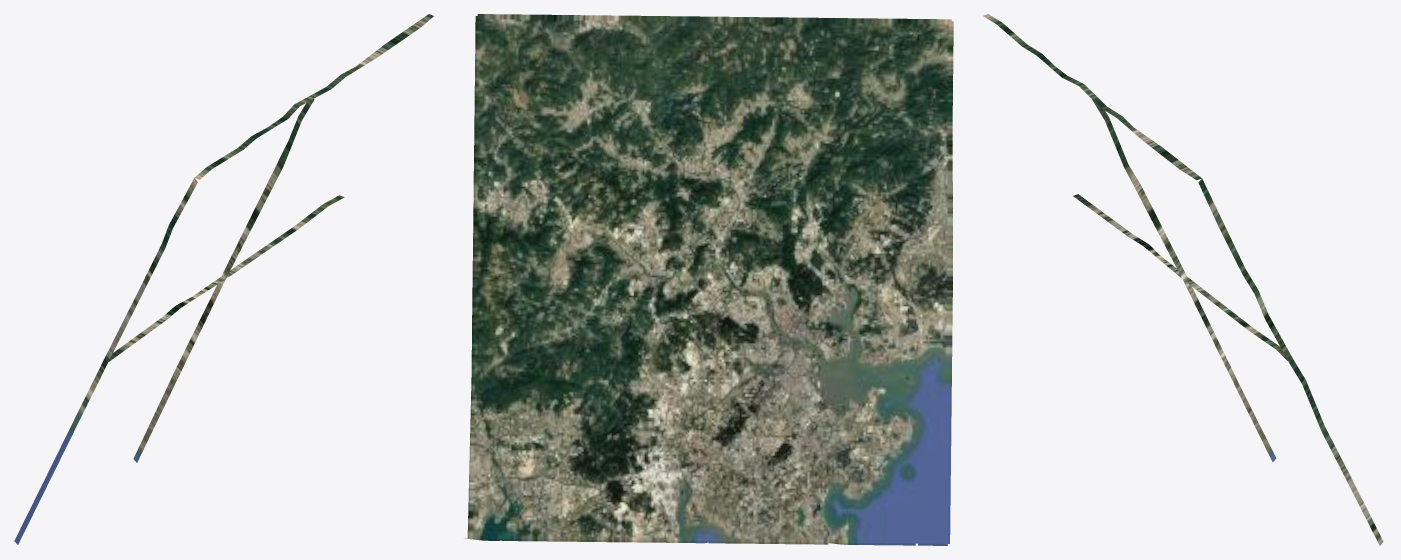
The picture shows the model from 3 angles, left to right: view 1: azimuth 30°, elevation 25°; view 2: azimuth 150°, elevation 25°; view 3: azimuth 270°, elevation 25°; orthographic projection. The views are drawn at different scales.
Size of the model in its own units: 78972 by 71877 by 64384.
1 material, 1 textured.
